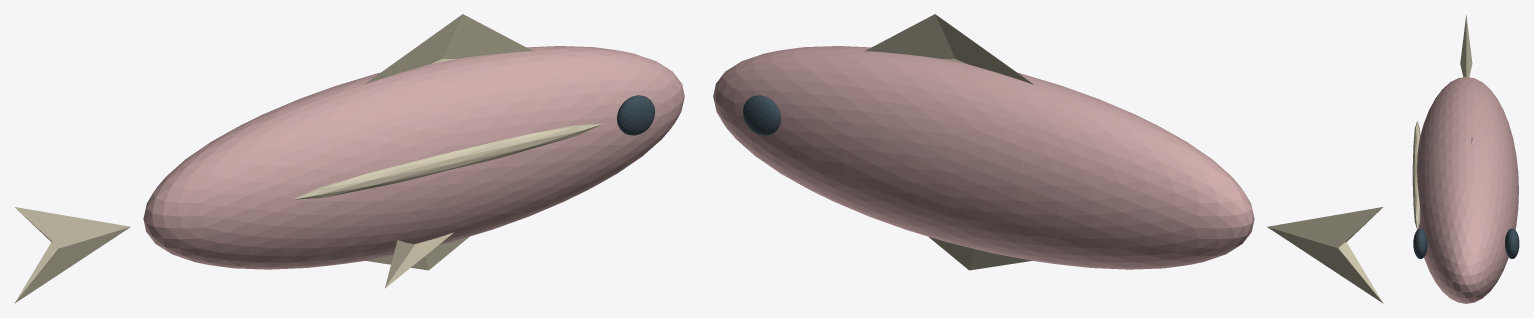
The model's file is Ikan_Kerisi.glb.
3 views of the same model, side by side, from view 1: azimuth 30°, elevation 25°; view 2: azimuth 150°, elevation 25°; view 3: azimuth 270°, elevation 25° (orthographic). The views are drawn at different scales.
Parts seen in each view (by area): view 1: Part_00, Part_07, Part_01, Part_02, Part_05, Part_04, Part_03; view 2: Part_00, Part_01, Part_02, Part_03, Part_06; view 3: Part_00, Part_07, Part_01, Part_05, Part_06.
Part boxes in pixels (x1,y1,x2,y2): Part_00: [143, 46, 684, 269]; Part_07: [293, 123, 603, 199]; Part_01: [14, 207, 130, 303]; Part_02: [364, 14, 532, 84]; Part_05: [617, 95, 655, 135]; Part_04: [385, 232, 454, 288]; Part_03: [365, 236, 469, 270]; Part_00: [713, 46, 1254, 269]; Part_01: [1267, 207, 1383, 303]; Part_02: [865, 14, 1033, 84]; Part_03: [928, 236, 1032, 270]; Part_06: [742, 95, 780, 135]; Part_00: [1417, 77, 1518, 303]; Part_07: [1412, 121, 1420, 229]; Part_01: [1460, 15, 1472, 77]; Part_05: [1413, 228, 1427, 258]; Part_06: [1505, 228, 1519, 258].
Size of the model in its own units: 1.37 by 0.4862 by 0.2626.
